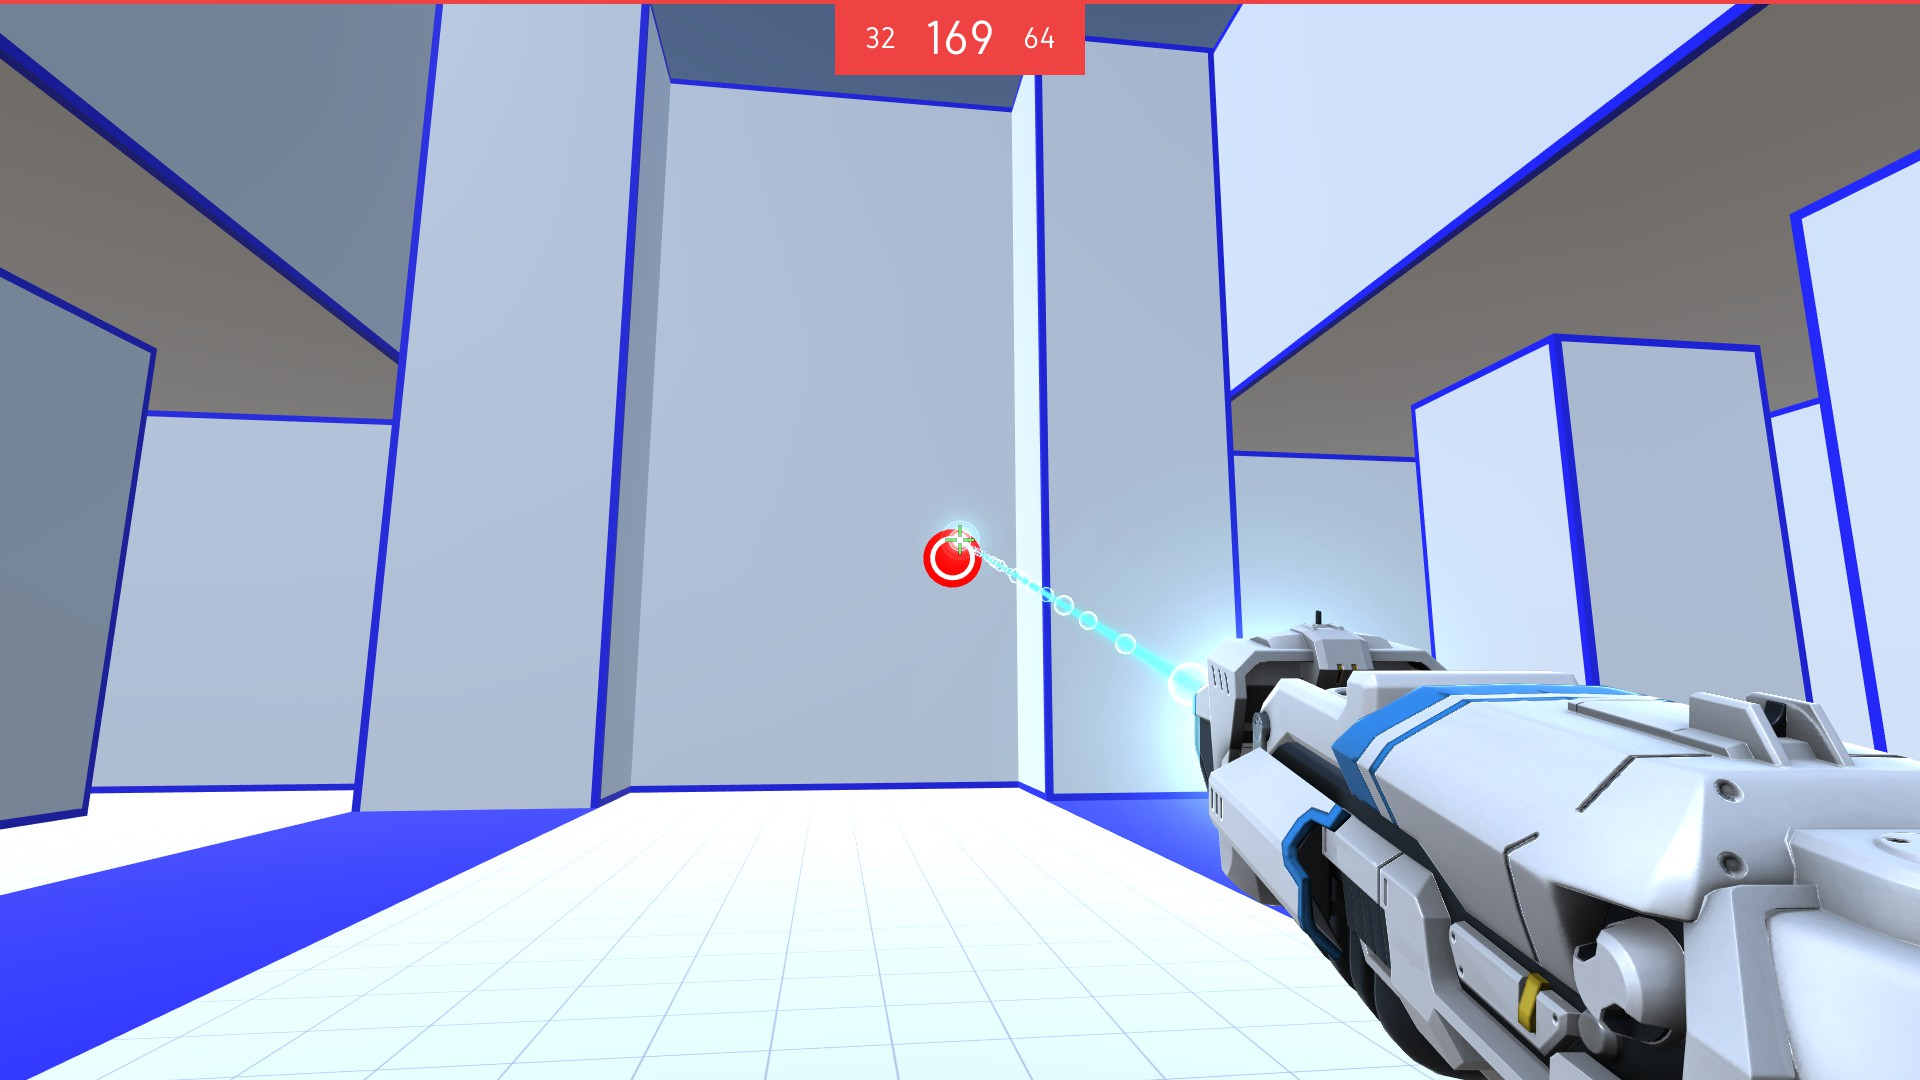target: (922, 527, 988, 588)
